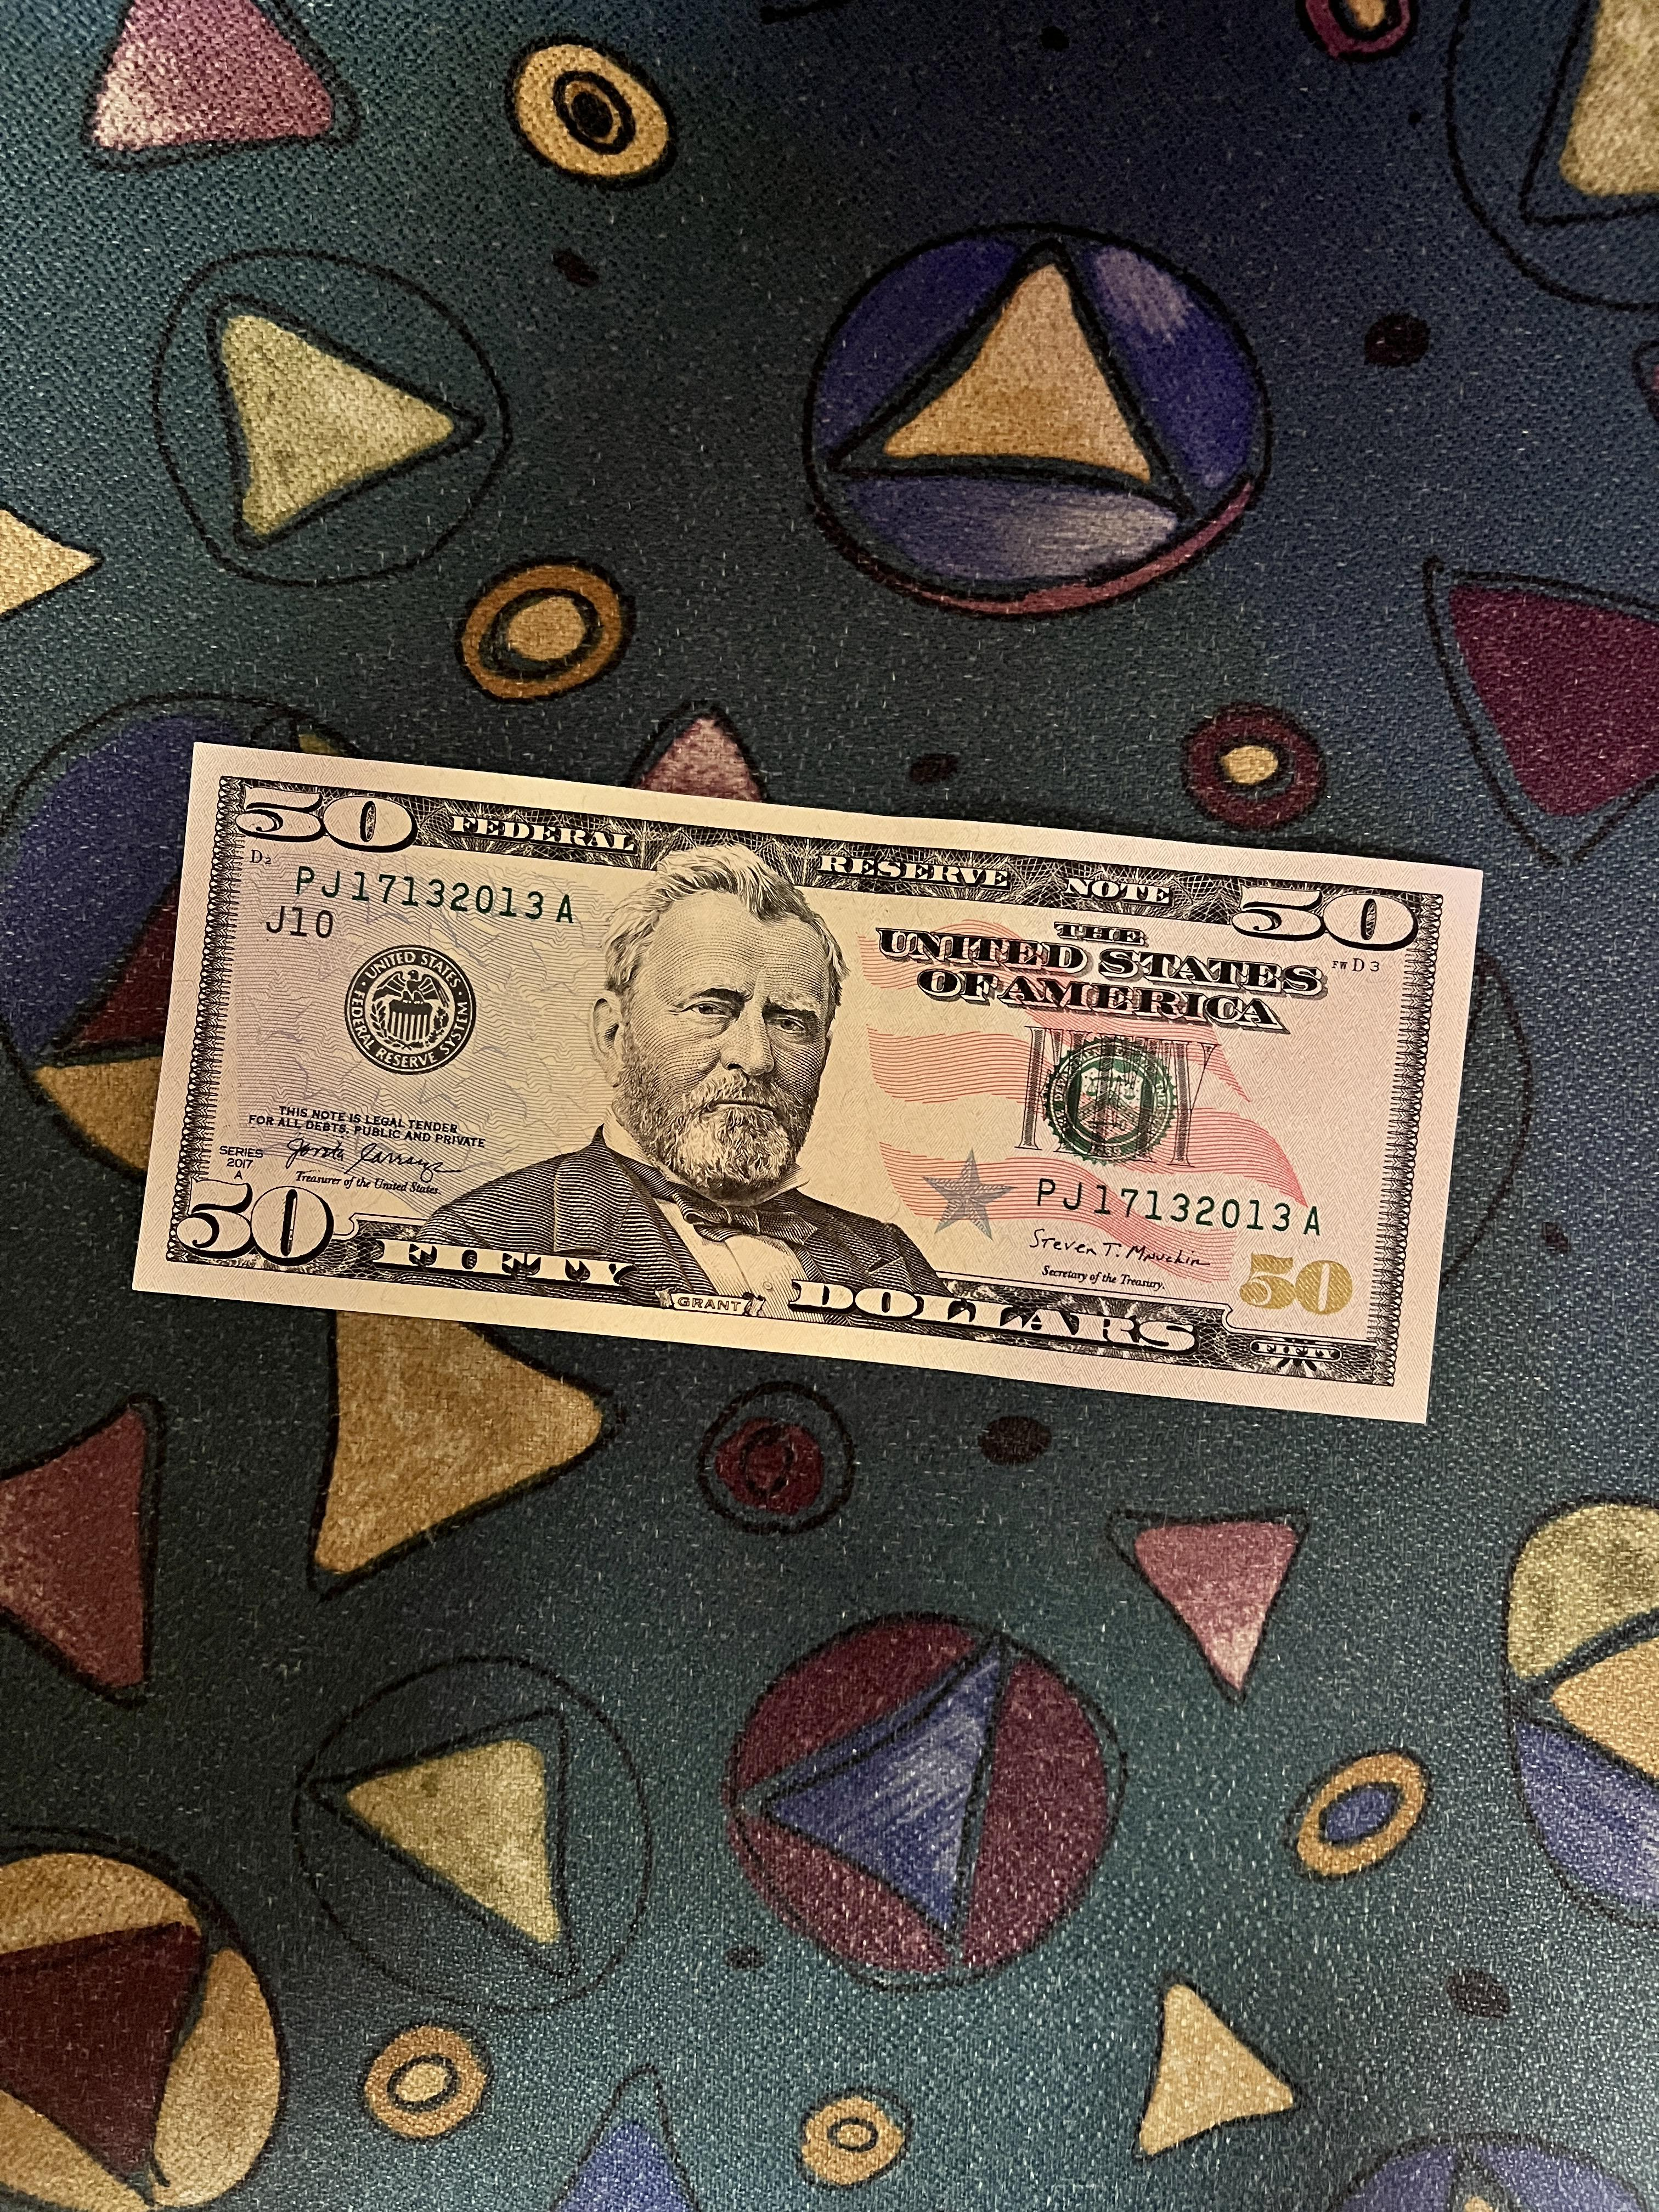FiftyBill: (131, 730, 1490, 1430)
